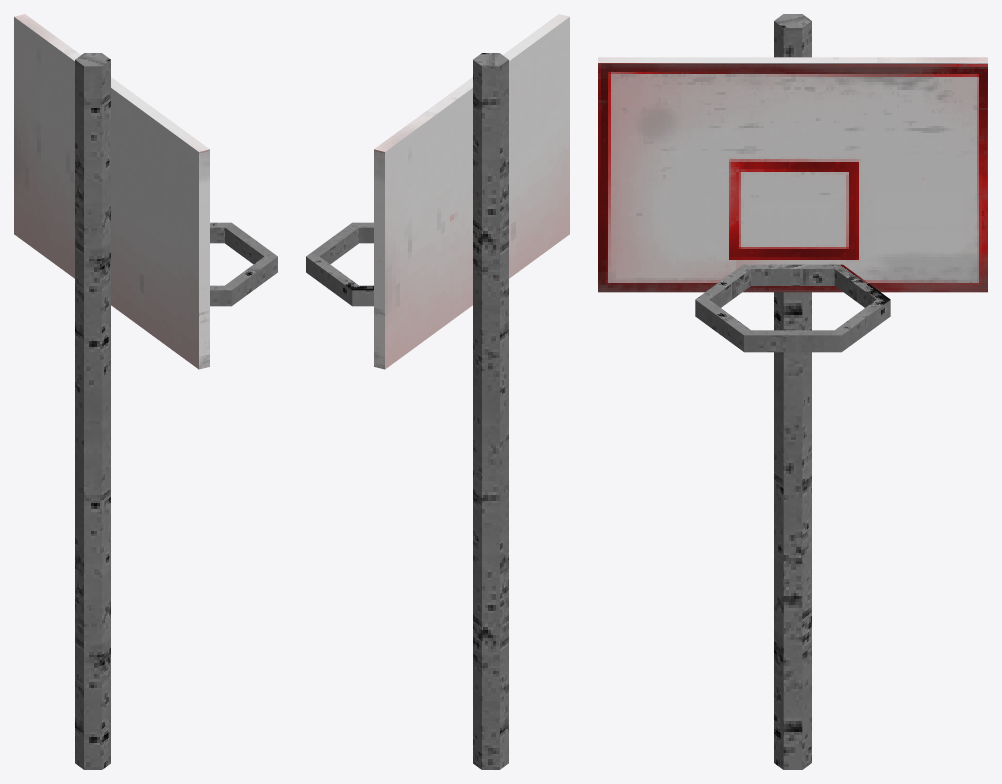
File: basketball_shield.glb
3 renders of one model, left to right at view 1: azimuth 30°, elevation 25°; view 2: azimuth 150°, elevation 25°; view 3: azimuth 270°, elevation 25°, orthographic. The views are drawn at different scales.
Parts seen in each view (by area): view 1: Cylinder; view 2: Cylinder; view 3: Cylinder.
Part boxes in pixels (x1,y1,x2,y2): Cylinder: [14, 14, 277, 769]; Cylinder: [306, 14, 569, 769]; Cylinder: [598, 14, 987, 769].
Size of the model in its own units: 2.18 by 8.37 by 3.99.
Materials: 1 (1 with a texture image).
